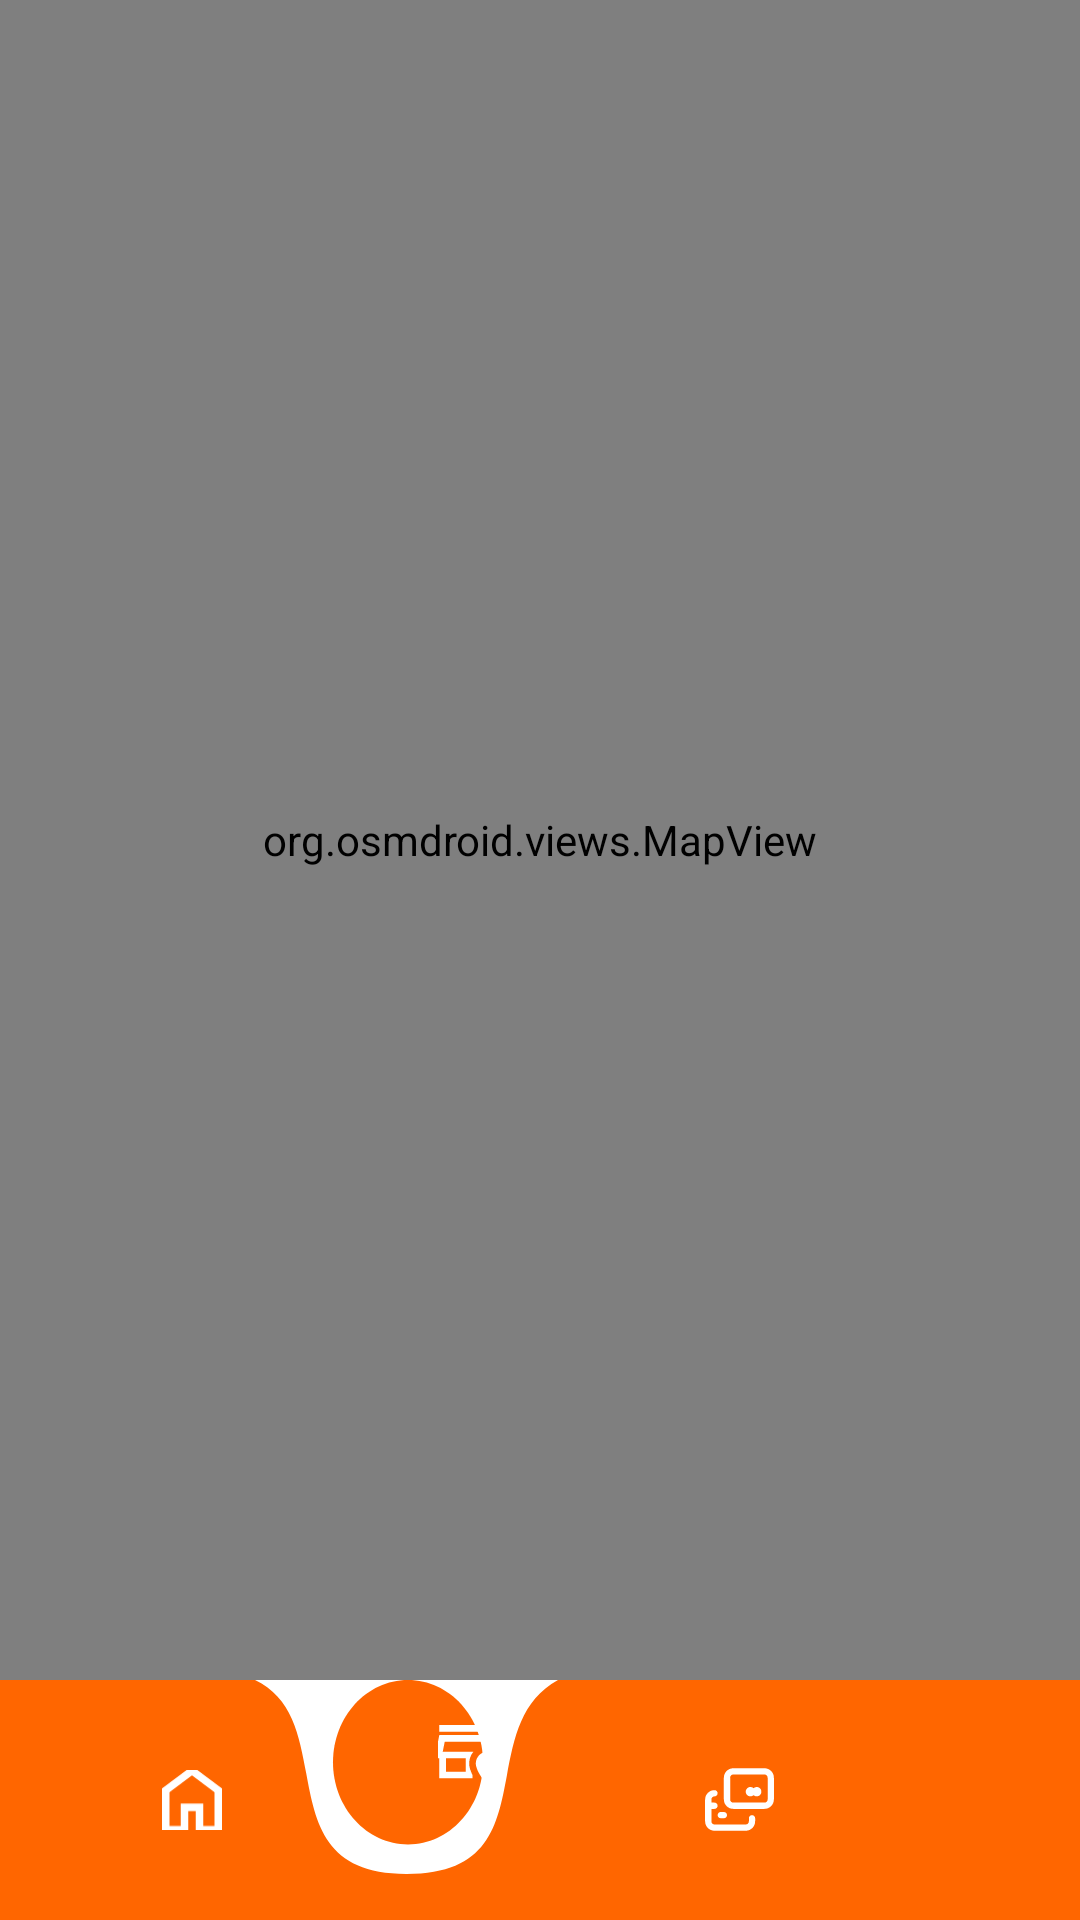

Icon bounding boxes for this 1080w x 1920h phone screenshot, format (x1, y1, x2, y2):
home: (162, 1770, 222, 1830)
